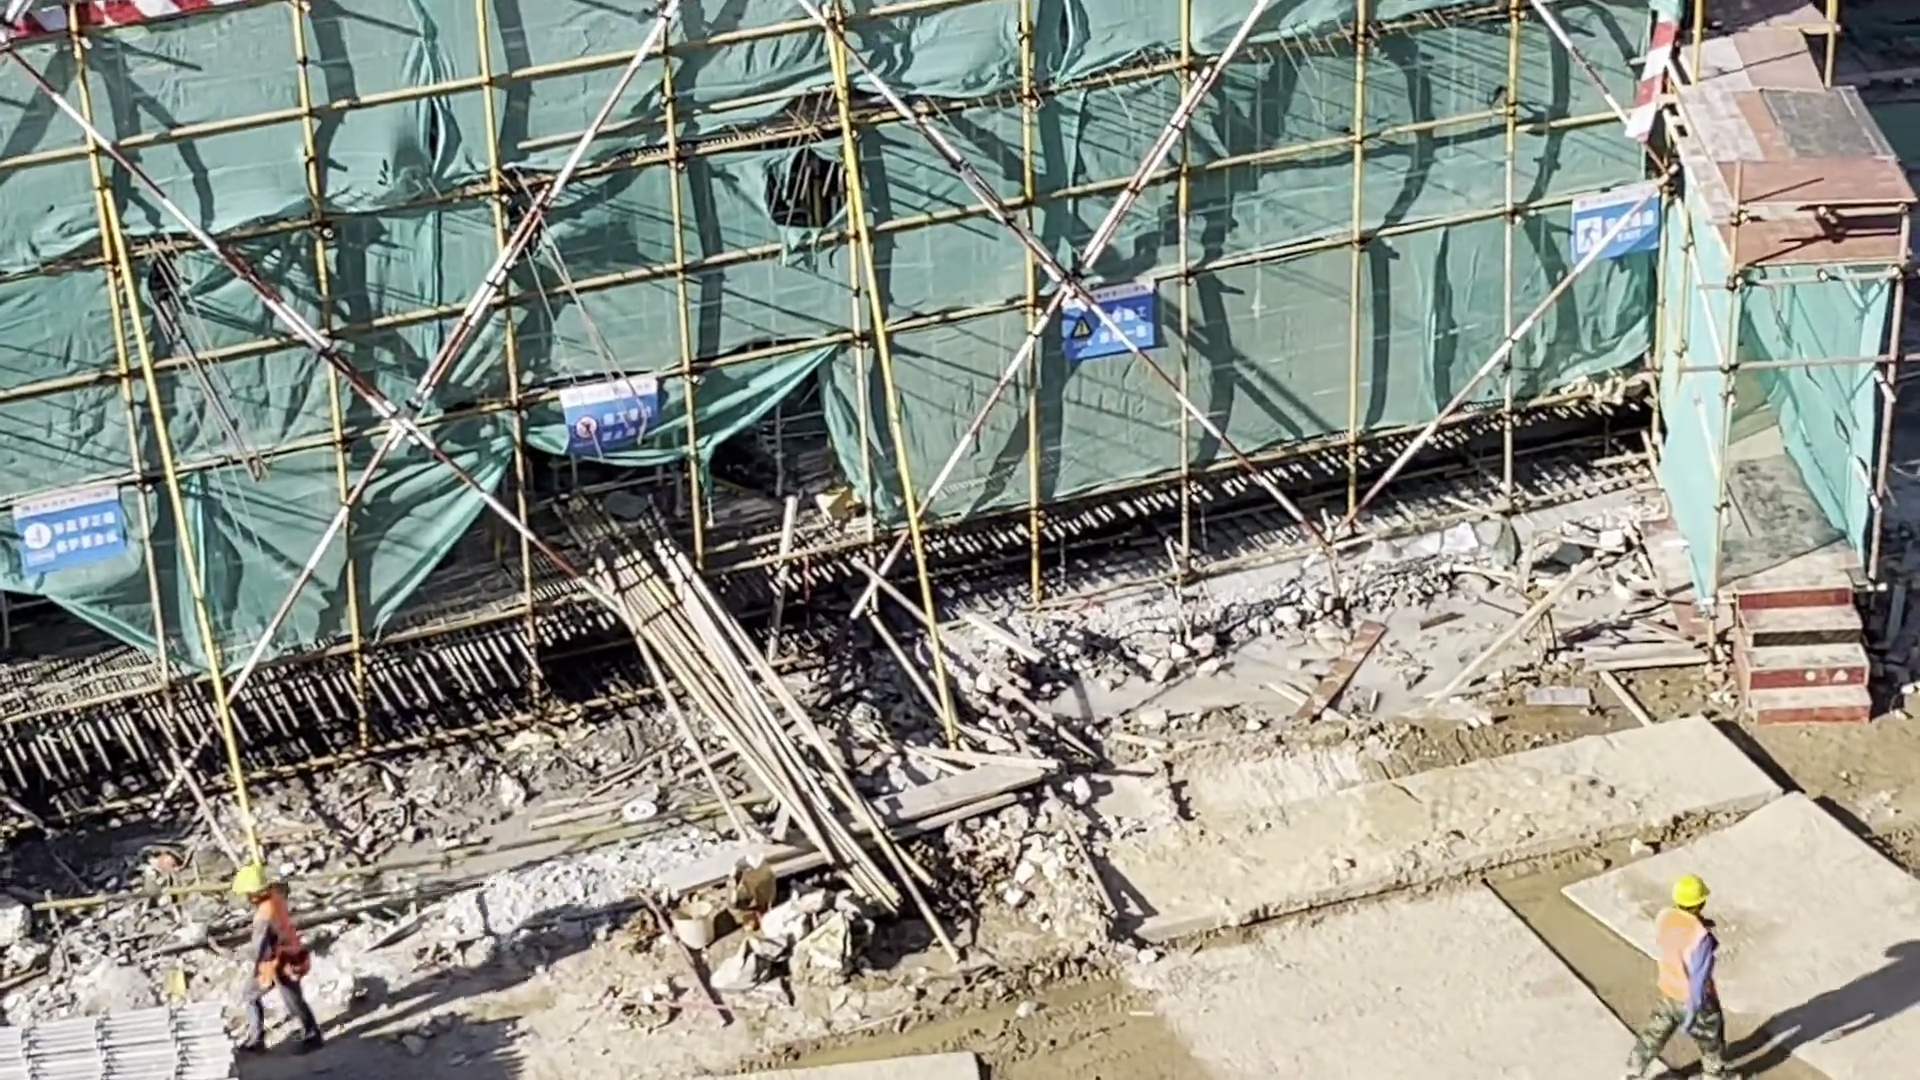helmet: (1659, 864, 1718, 919), (225, 860, 274, 901)
person: (1611, 868, 1771, 1080), (222, 848, 363, 1052)
vest: (1643, 898, 1711, 1012), (248, 898, 311, 990)
